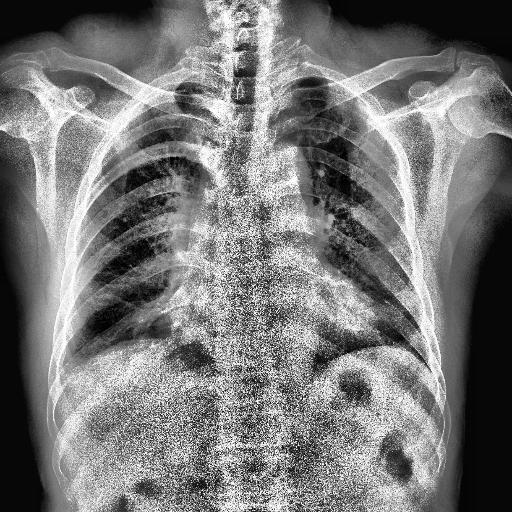0- Aortic enlargement: (252, 138, 316, 202), (255, 142, 317, 208), (250, 138, 312, 194)
10- Pleural effusion: (46, 362, 70, 384)
11- Pleural thickening: (130, 81, 218, 113), (276, 76, 308, 102), (46, 362, 70, 384)
13- Pulmonary fibrosis: (103, 292, 162, 330)
3- Cardiomegaly: (168, 289, 384, 377), (164, 292, 391, 358), (168, 286, 386, 354)
